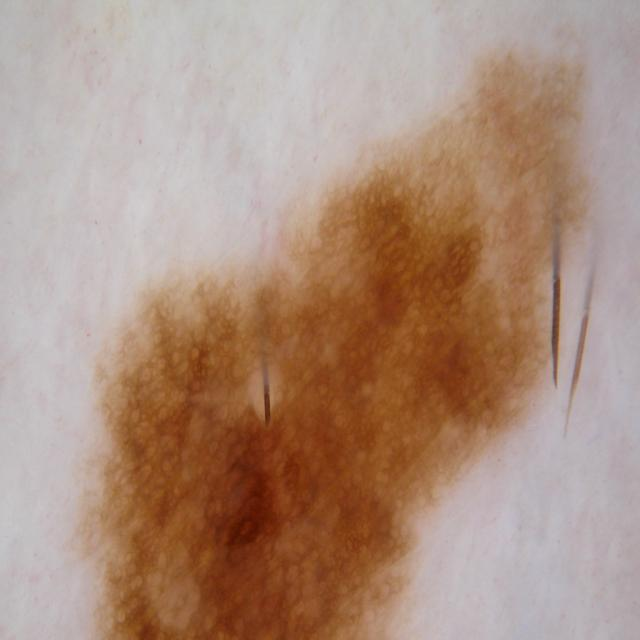Melanoma: (47, 31, 636, 640)
